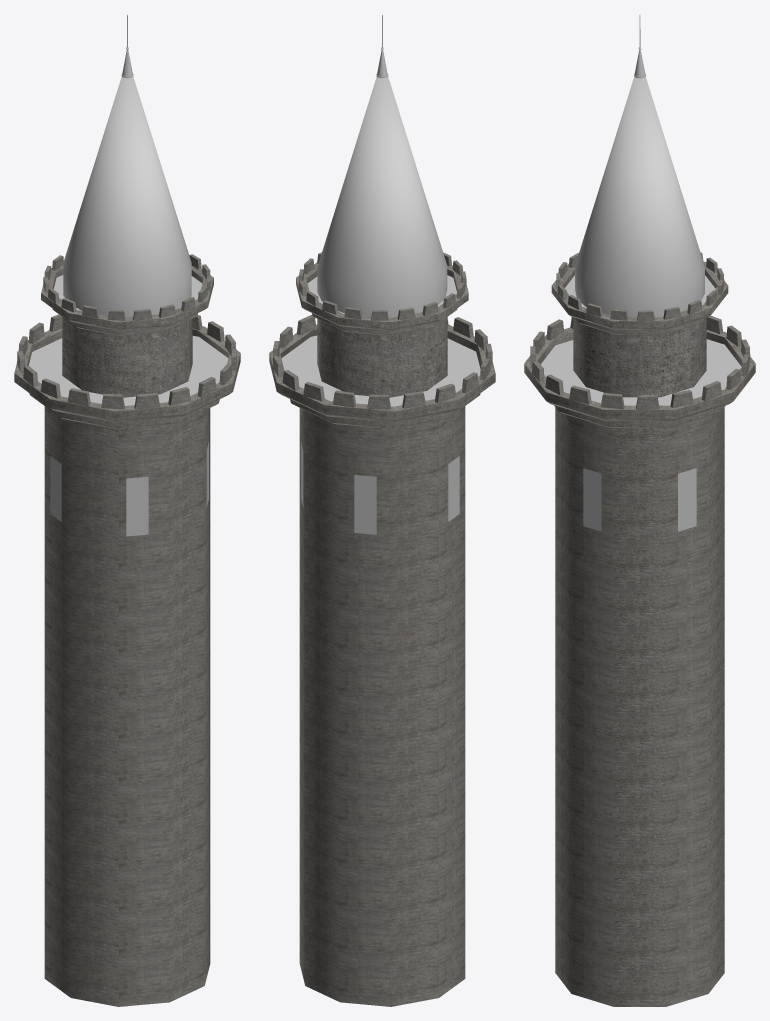
The model's file is Castle_Prop01.FBX.
The picture shows the model from 3 angles, left to right: view 1: azimuth 30°, elevation 25°; view 2: azimuth 150°, elevation 25°; view 3: azimuth 270°, elevation 25°; orthographic projection.
Visible parts, largest first — view 1: Castle_Prop01; view 2: Castle_Prop01; view 3: Castle_Prop01.
Part boxes in pixels (box(x1,y1,x2,y2)): Castle_Prop01: box(14, 14, 240, 1006); Castle_Prop01: box(269, 14, 495, 1006); Castle_Prop01: box(524, 14, 755, 1006).
Bounding box in the file's own units: 1159 × 5556 × 1216.
